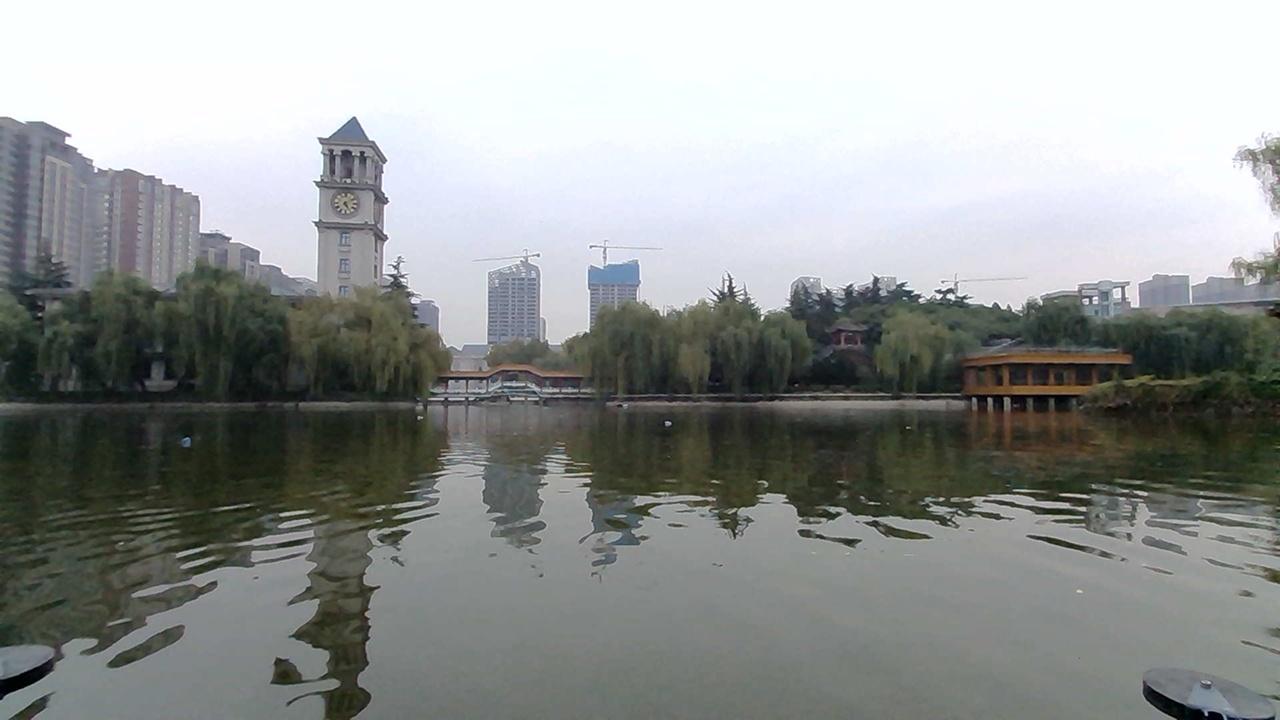bottle: (171, 432, 205, 454), (651, 414, 687, 433)
